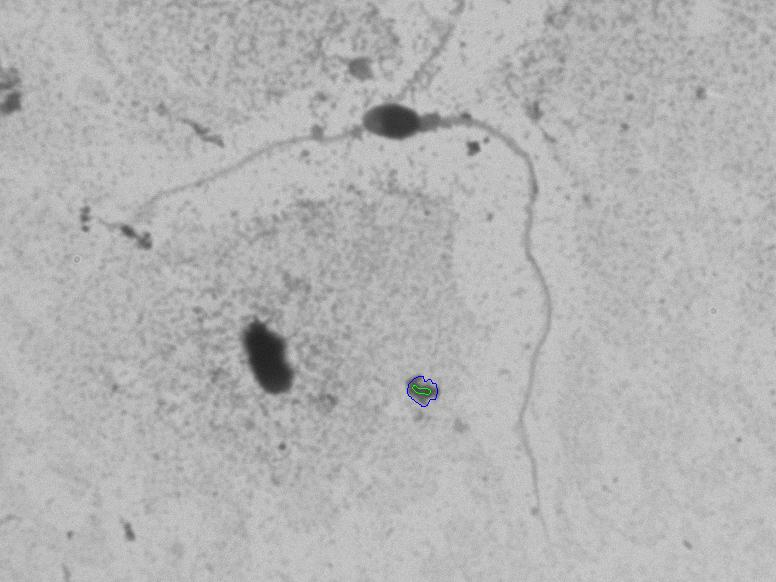Normal: (355, 65, 603, 527)
